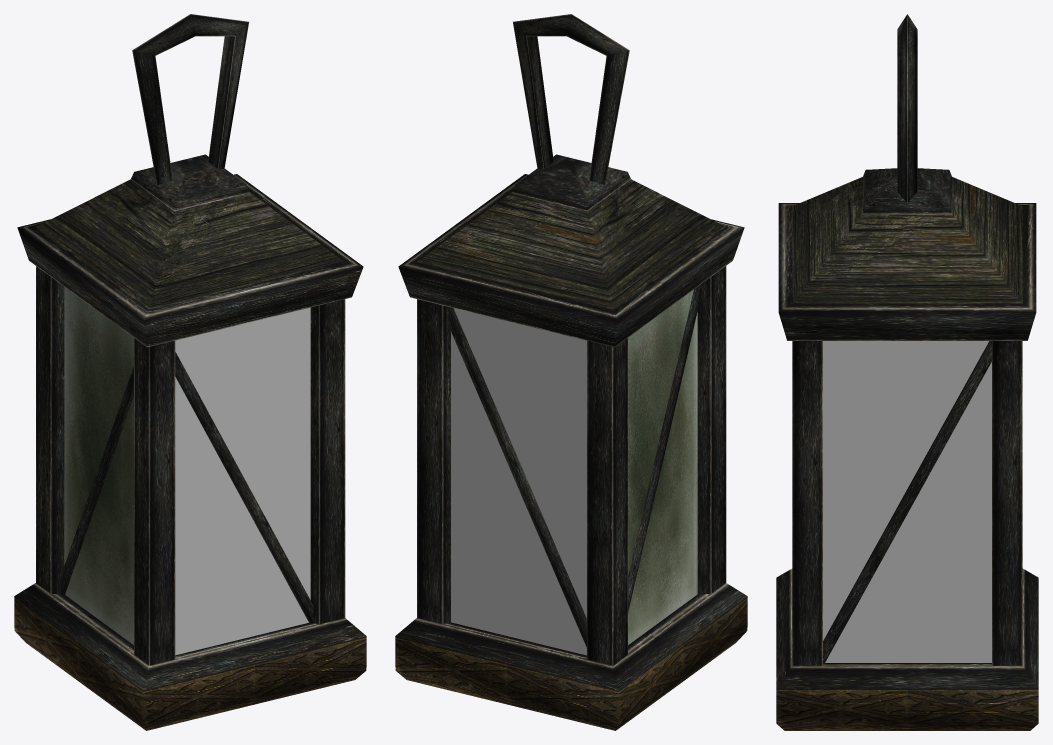
Rendered from light_com_lantern_02.dae.
3 views of the same model, side by side, from view 1: azimuth 30°, elevation 25°; view 2: azimuth 150°, elevation 25°; view 3: azimuth 270°, elevation 25° (orthographic).
Parts seen in each view (by area): view 1: nifid_31-matrix, nifid_10-matrix, nifid_41-matrix, nifid_3-matrix, nifid_46-matrix; view 2: nifid_31-matrix, nifid_24-matrix, nifid_41-matrix, nifid_3-matrix, nifid_46-matrix; view 3: nifid_31-matrix, nifid_17-matrix, nifid_41-matrix, nifid_46-matrix.
Part boxes in pixels (bbox=[...]): nifid_31-matrix: bbox=[14, 14, 366, 690]; nifid_10-matrix: bbox=[175, 307, 310, 655]; nifid_41-matrix: bbox=[36, 179, 344, 309]; nifid_3-matrix: bbox=[64, 287, 133, 644]; nifid_46-matrix: bbox=[14, 596, 366, 730]; nifid_31-matrix: bbox=[395, 14, 747, 690]; nifid_24-matrix: bbox=[451, 308, 586, 655]; nifid_41-matrix: bbox=[417, 179, 725, 309]; nifid_3-matrix: bbox=[628, 289, 697, 644]; nifid_46-matrix: bbox=[395, 596, 747, 730]; nifid_31-matrix: bbox=[776, 14, 1038, 688]; nifid_17-matrix: bbox=[823, 341, 991, 662]; nifid_41-matrix: bbox=[792, 177, 1022, 303]; nifid_46-matrix: bbox=[776, 688, 1038, 730].
Bounding box in the file's own units: 13.99 × 13.99 × 38.71.
Materials: 6 (5 with a texture image).
